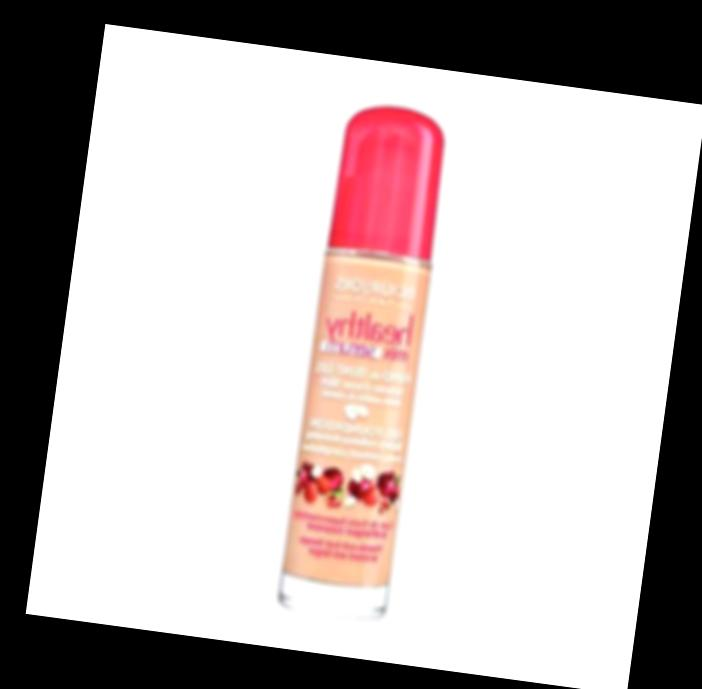cosmetic: (276, 99, 456, 619)
